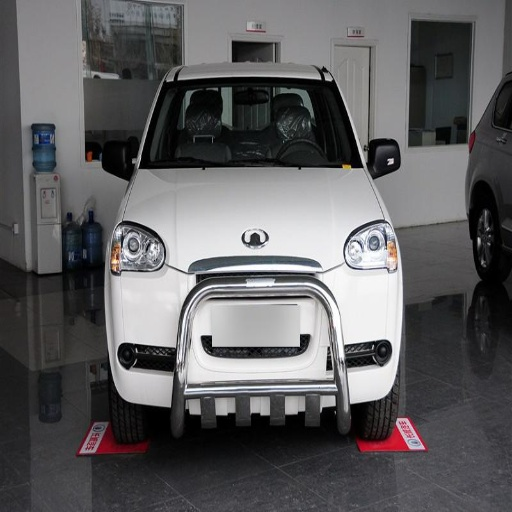front_bumper: (109, 262, 401, 406)
front_right_light: (111, 222, 165, 273)
hood: (296, 168, 379, 270), (131, 169, 201, 225)
tailgate: (216, 267, 286, 298)
trunk: (188, 172, 300, 241)
